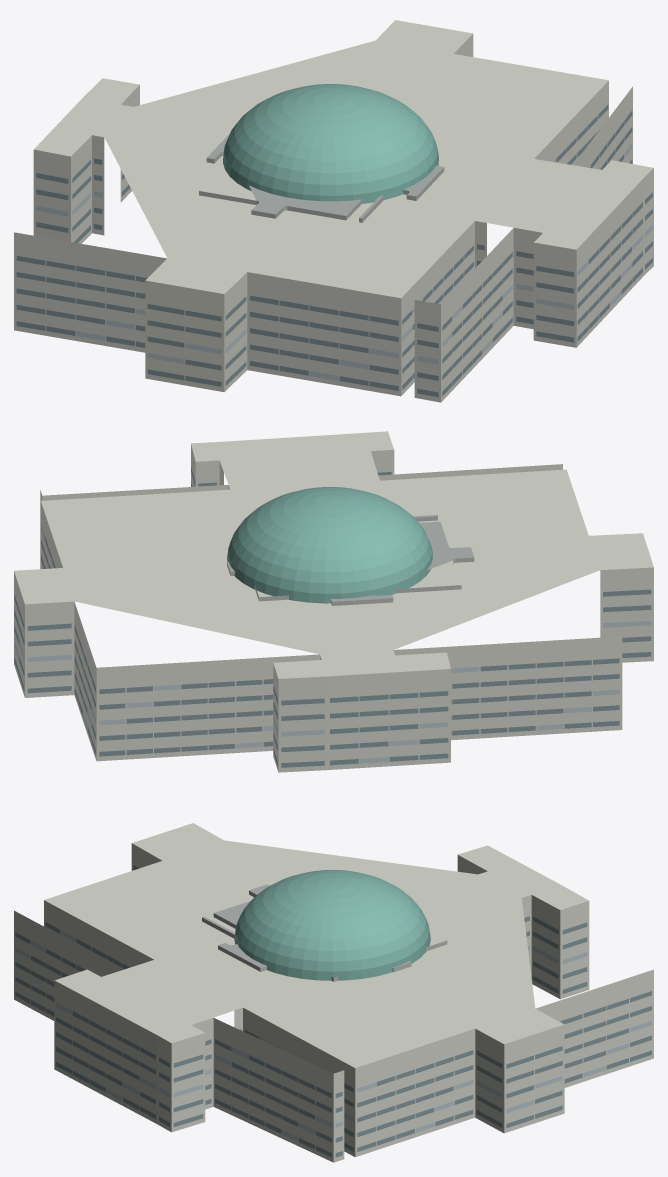
Rendered from landmark-68429354-11f6-442e-87d4-359c4748204e.glb.
3 renders of one model, top to bottom at view 1: azimuth 30°, elevation 25°; view 2: azimuth 150°, elevation 25°; view 3: azimuth 270°, elevation 25°, orthographic. The views are drawn at different scales.
Visible parts, largest first — view 1: landmark-68429354-11f6-442e-87d4-359c4748204e; view 2: landmark-68429354-11f6-442e-87d4-359c4748204e; view 3: landmark-68429354-11f6-442e-87d4-359c4748204e.
Part boxes in pixels (x1,y1,x2,y2): landmark-68429354-11f6-442e-87d4-359c4748204e: (14, 20, 653, 402); landmark-68429354-11f6-442e-87d4-359c4748204e: (14, 431, 653, 772); landmark-68429354-11f6-442e-87d4-359c4748204e: (14, 823, 653, 1162).
Size of the model in its own units: 210 by 52 by 208.
